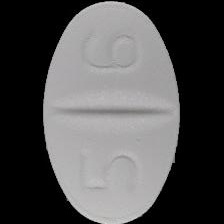68084-618: (0, 0, 224, 224)
